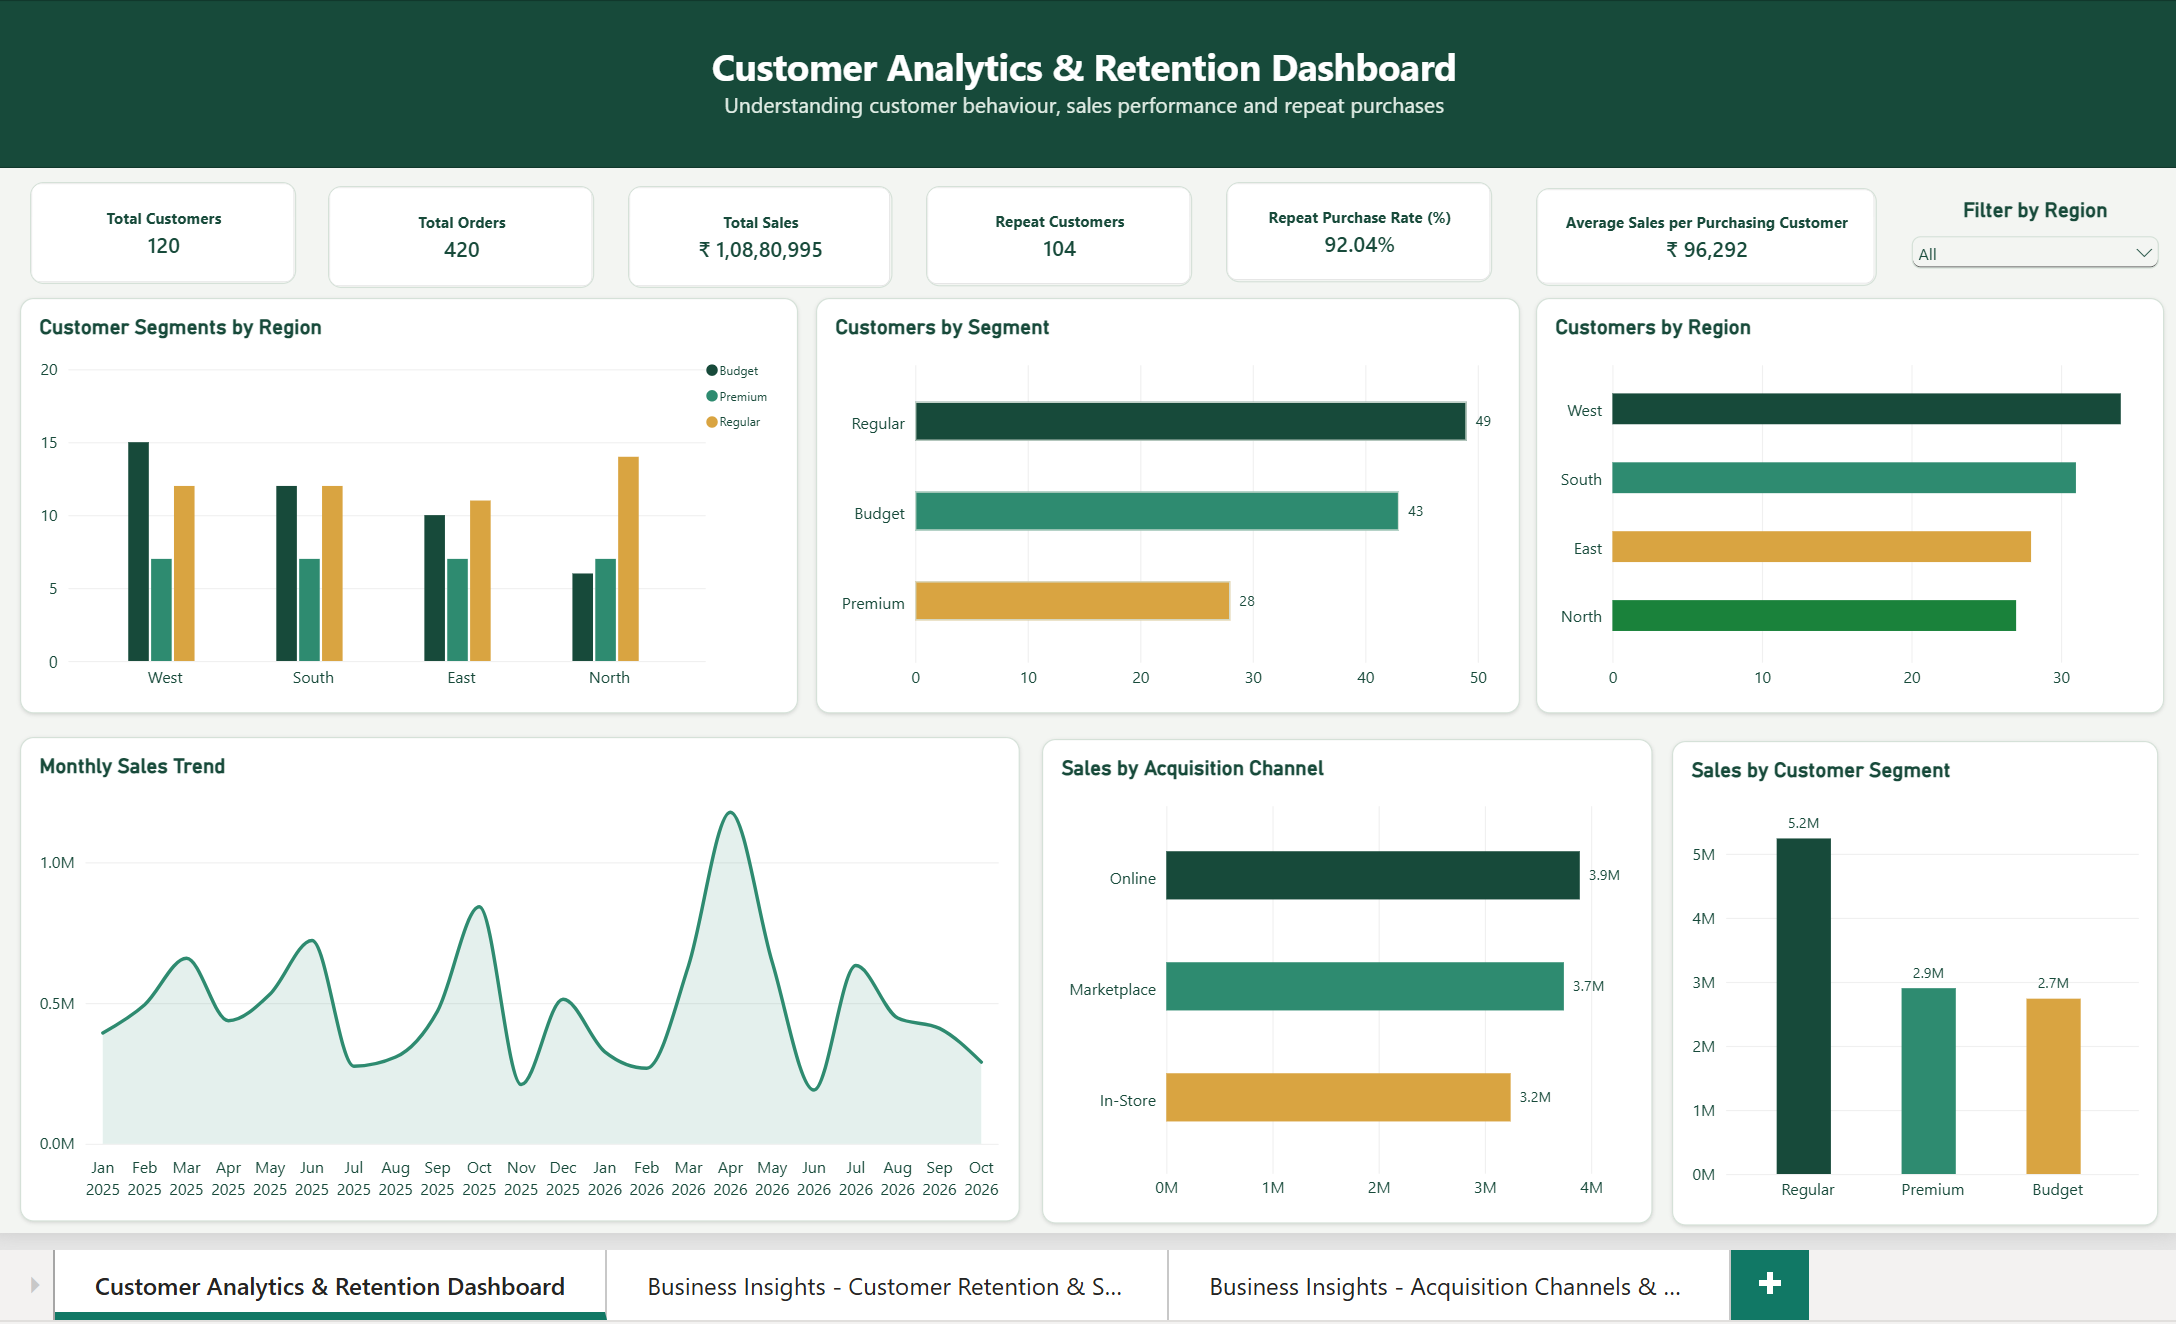

This screenshot's page, from the dashboard's own definition file:
{"tool":"powerbi","page":{"name":"Customer Analytics & Retention Dashboard","canvas":[1920,1080],"ordinal":0},"visuals":[{"type":"cardVisual","fields":{"Data":["Customers.Total Customers"]},"box":[35.6,159.6,233.3,89.4],"z":0},{"type":"cardVisual","fields":{"Data":["Orders.Total Sales"]},"box":[558.8,162.4,231.8,89.4],"z":1000},{"type":"cardVisual","fields":{"Data":["Customers.Repeat Customers"]},"box":[821.2,162.4,233.3,87.9],"z":2000},{"type":"cardVisual","fields":{"Data":["Customers.Repeat Purchase Rate %"]},"box":[1084.7,160,233.3,87.9],"z":3000},{"type":"clusteredBarChart","title":"Customers by Segment","fields":{"Category":["Customers.CustomerSegment"],"Y":["CountNonNull(Customers.CustomerID)"]},"box":[725.1,261.9,617.6,363.4],"z":4000},{"type":"clusteredColumnChart","title":"Sales by Customer Segment","fields":{"Category":["Orders.CustomerSegment"],"Y":["Sum(Orders.SalesINR)"]},"box":[1475.8,648.3,426.5,424.8],"z":5000},{"type":"lineChart","title":"Monthly Sales Trend","fields":{"Category":["Orders.MonthYear"],"Y":["Sum(Orders.SalesINR)"]},"box":[25.6,645.8,877,424.8],"z":6000},{"type":"clusteredBarChart","title":"Sales by Acquisition Channel","fields":{"Category":["Orders.AcquisitionChannel"],"Y":["Sum(Orders.SalesINR)"]},"box":[923,647.5,535.7,424.8],"z":7000},{"type":"clusteredBarChart","title":"Customers by Region","fields":{"Category":["Customers.Region"],"Y":["CountNonNull(Customers.CustomerID)"]},"box":[1356.4,261.9,551.1,363.4],"z":8000},{"type":"clusteredColumnChart","title":"Customer Segments by Region","fields":{"Category":["Customers.Region"],"Series":["Customers.CustomerSegment"],"Y":["CountNonNull(Customers.CustomerID)"]},"box":[25.6,261.9,682.5,363.4],"z":9000},{"type":"cardVisual","fields":{"Data":["Orders.Average Sales per Customer"]},"box":[1356.5,164.7,298.8,85.9],"z":10000},{"type":"cardVisual","fields":{"Data":["Orders.Total Orders"]},"box":[296.5,162.4,233.3,89.4],"z":11000},{"type":"slicer","title":"Filter by Region","fields":{"Values":["Customers.Region"]},"box":[1680,172.9,227.1,62.4],"z":12000},{"type":"shape","box":[1.8,0,1917.5,147.4],"z":13000},{"type":"textbox","box":[595.5,37.5,730.2,70],"z":14000}]}

Visuals, with their boxes on the page's 1920x1080 design canvas (x1, y1, x2, y2). These are canvas units, not pixel positions in the 2176x1324 screenshot, which may show the page scaled, cropped or inside an application window:
cardVisual - Customers.Total Customers: bbox(36, 160, 269, 249)
cardVisual - Orders.Total Sales: bbox(559, 162, 791, 252)
cardVisual - Customers.Repeat Customers: bbox(821, 162, 1054, 250)
cardVisual - Customers.Repeat Purchase Rate %: bbox(1085, 160, 1318, 248)
"Customers by Segment" clusteredBarChart: bbox(725, 262, 1343, 625)
"Sales by Customer Segment" clusteredColumnChart: bbox(1476, 648, 1902, 1073)
"Monthly Sales Trend" lineChart: bbox(26, 646, 903, 1071)
"Sales by Acquisition Channel" clusteredBarChart: bbox(923, 648, 1459, 1072)
"Customers by Region" clusteredBarChart: bbox(1356, 262, 1908, 625)
"Customer Segments by Region" clusteredColumnChart: bbox(26, 262, 708, 625)
cardVisual - Orders.Average Sales per Customer: bbox(1356, 165, 1655, 251)
cardVisual - Orders.Total Orders: bbox(296, 162, 530, 252)
"Filter by Region" slicer: bbox(1680, 173, 1907, 235)
shape: bbox(2, 0, 1919, 147)
textbox: bbox(596, 38, 1326, 108)
